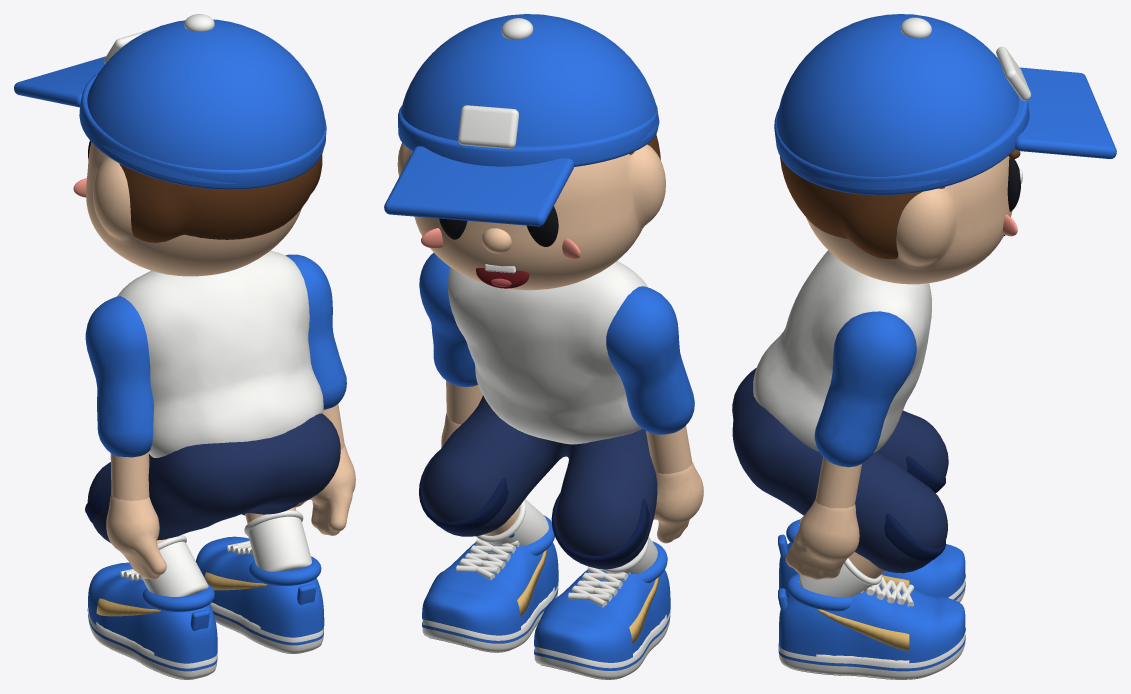
The model's file is BlueRider.fbx.
The picture shows the model from 3 angles, left to right: view 1: azimuth 30°, elevation 25°; view 2: azimuth 150°, elevation 25°; view 3: azimuth 270°, elevation 25°; orthographic projection. The views are drawn at different scales.
Visible parts, largest first — view 1: HeadMesh, BodyMesh, ArmLMesh, LegRMesh, LegLMesh, ArmRMesh; view 2: HeadMesh, BodyMesh, LegRMesh, LegLMesh, ArmLMesh, ArmRMesh; view 3: HeadMesh, BodyMesh, LegRMesh, ArmRMesh, LegLMesh.
Part boxes in pixels (box(x1,y1,x2,y2)): HeadMesh: box(14, 14, 326, 276); BodyMesh: box(87, 250, 340, 542); ArmLMesh: box(85, 296, 166, 579); LegRMesh: box(195, 507, 324, 653); LegLMesh: box(85, 489, 217, 679); ArmRMesh: box(285, 254, 355, 535); HeadMesh: box(384, 14, 665, 290); BodyMesh: box(422, 261, 657, 569); LegRMesh: box(419, 450, 558, 652); LegLMesh: box(534, 491, 670, 679); ArmLMesh: box(606, 286, 703, 543); ArmRMesh: box(419, 252, 482, 447); HeadMesh: box(774, 14, 1116, 284); BodyMesh: box(732, 250, 948, 573); LegRMesh: box(778, 513, 965, 679); ArmRMesh: box(785, 311, 916, 579); LegLMesh: box(778, 456, 965, 604).
Bounding box in the file's own units: 0.5683 × 1.35 × 0.7598.
